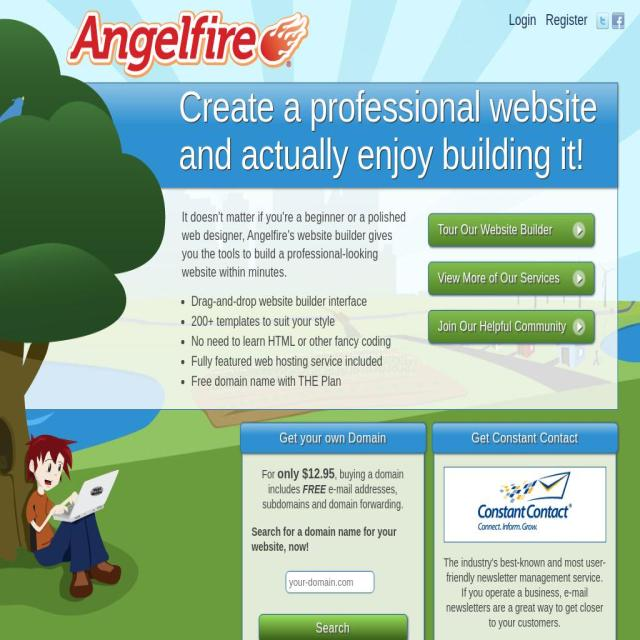button: (428, 213, 594, 247), (428, 262, 594, 295), (428, 310, 594, 343)
field: (258, 614, 408, 640), (285, 571, 374, 593)
heading: (178, 84, 618, 178), (251, 428, 635, 446), (440, 428, 608, 446)
image: (0, 132, 640, 162), (477, 472, 572, 530), (571, 318, 586, 337), (571, 222, 586, 240), (571, 270, 586, 288), (595, 13, 609, 29), (610, 13, 624, 29), (0, 450, 9, 471), (0, 625, 12, 640)
link: (191, 334, 391, 348), (191, 354, 382, 368), (191, 294, 367, 308), (191, 374, 341, 388), (192, 314, 334, 328), (545, 13, 587, 29), (508, 13, 536, 29)
text: (182, 208, 407, 282), (443, 555, 606, 630), (252, 524, 414, 554), (262, 482, 404, 511), (268, 467, 404, 496), (438, 319, 566, 333), (438, 271, 560, 285), (438, 222, 552, 236), (277, 466, 335, 482), (302, 482, 326, 496), (262, 467, 278, 481)
